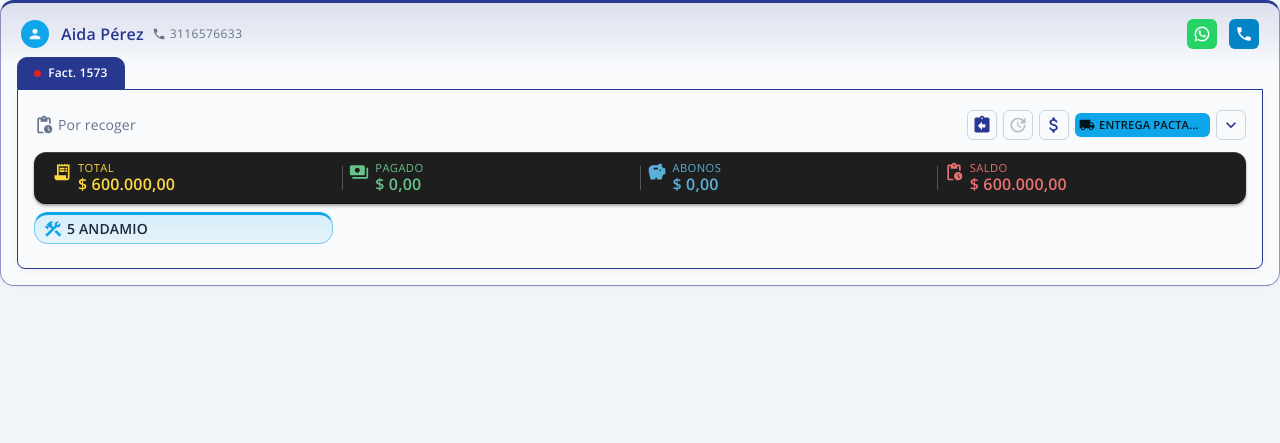
Test: ClienteSeguimientoCard — lo que muestra › el equipo con entrega pactada se ve por recoger, con la cuenta detenida
Click the button named "Mostrar factura" at (1231,125), box [1216,110,1246,140]
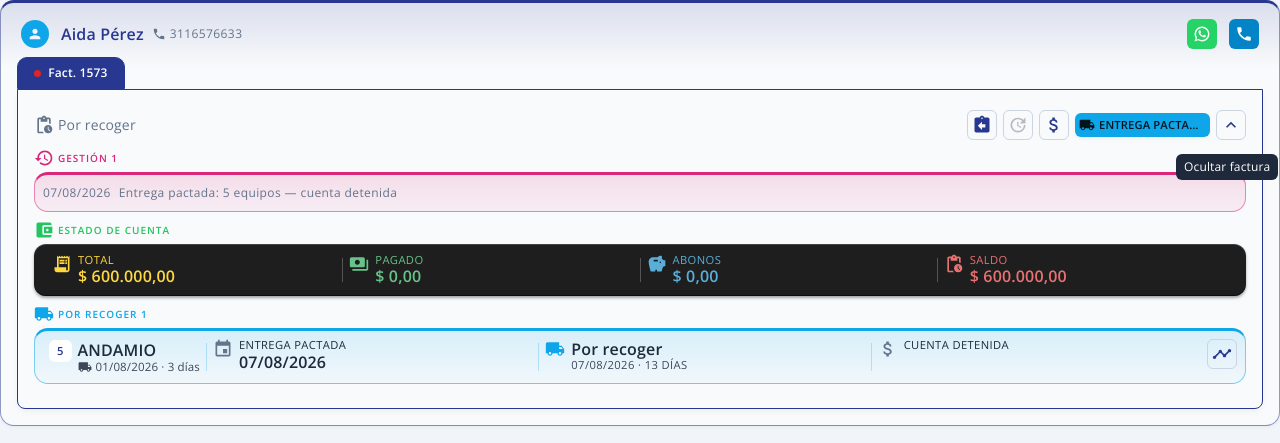
Result: the text "ANDAMIO 01/08/2026 · 3 días" is shown at [78,340,200,375]
Result: the text "Cuenta detenida" is shown at [904,339,1009,352]
Result: the text "Entrega pactada: 5 equipos — cuenta detenida" is shown at [119,183,397,203]
